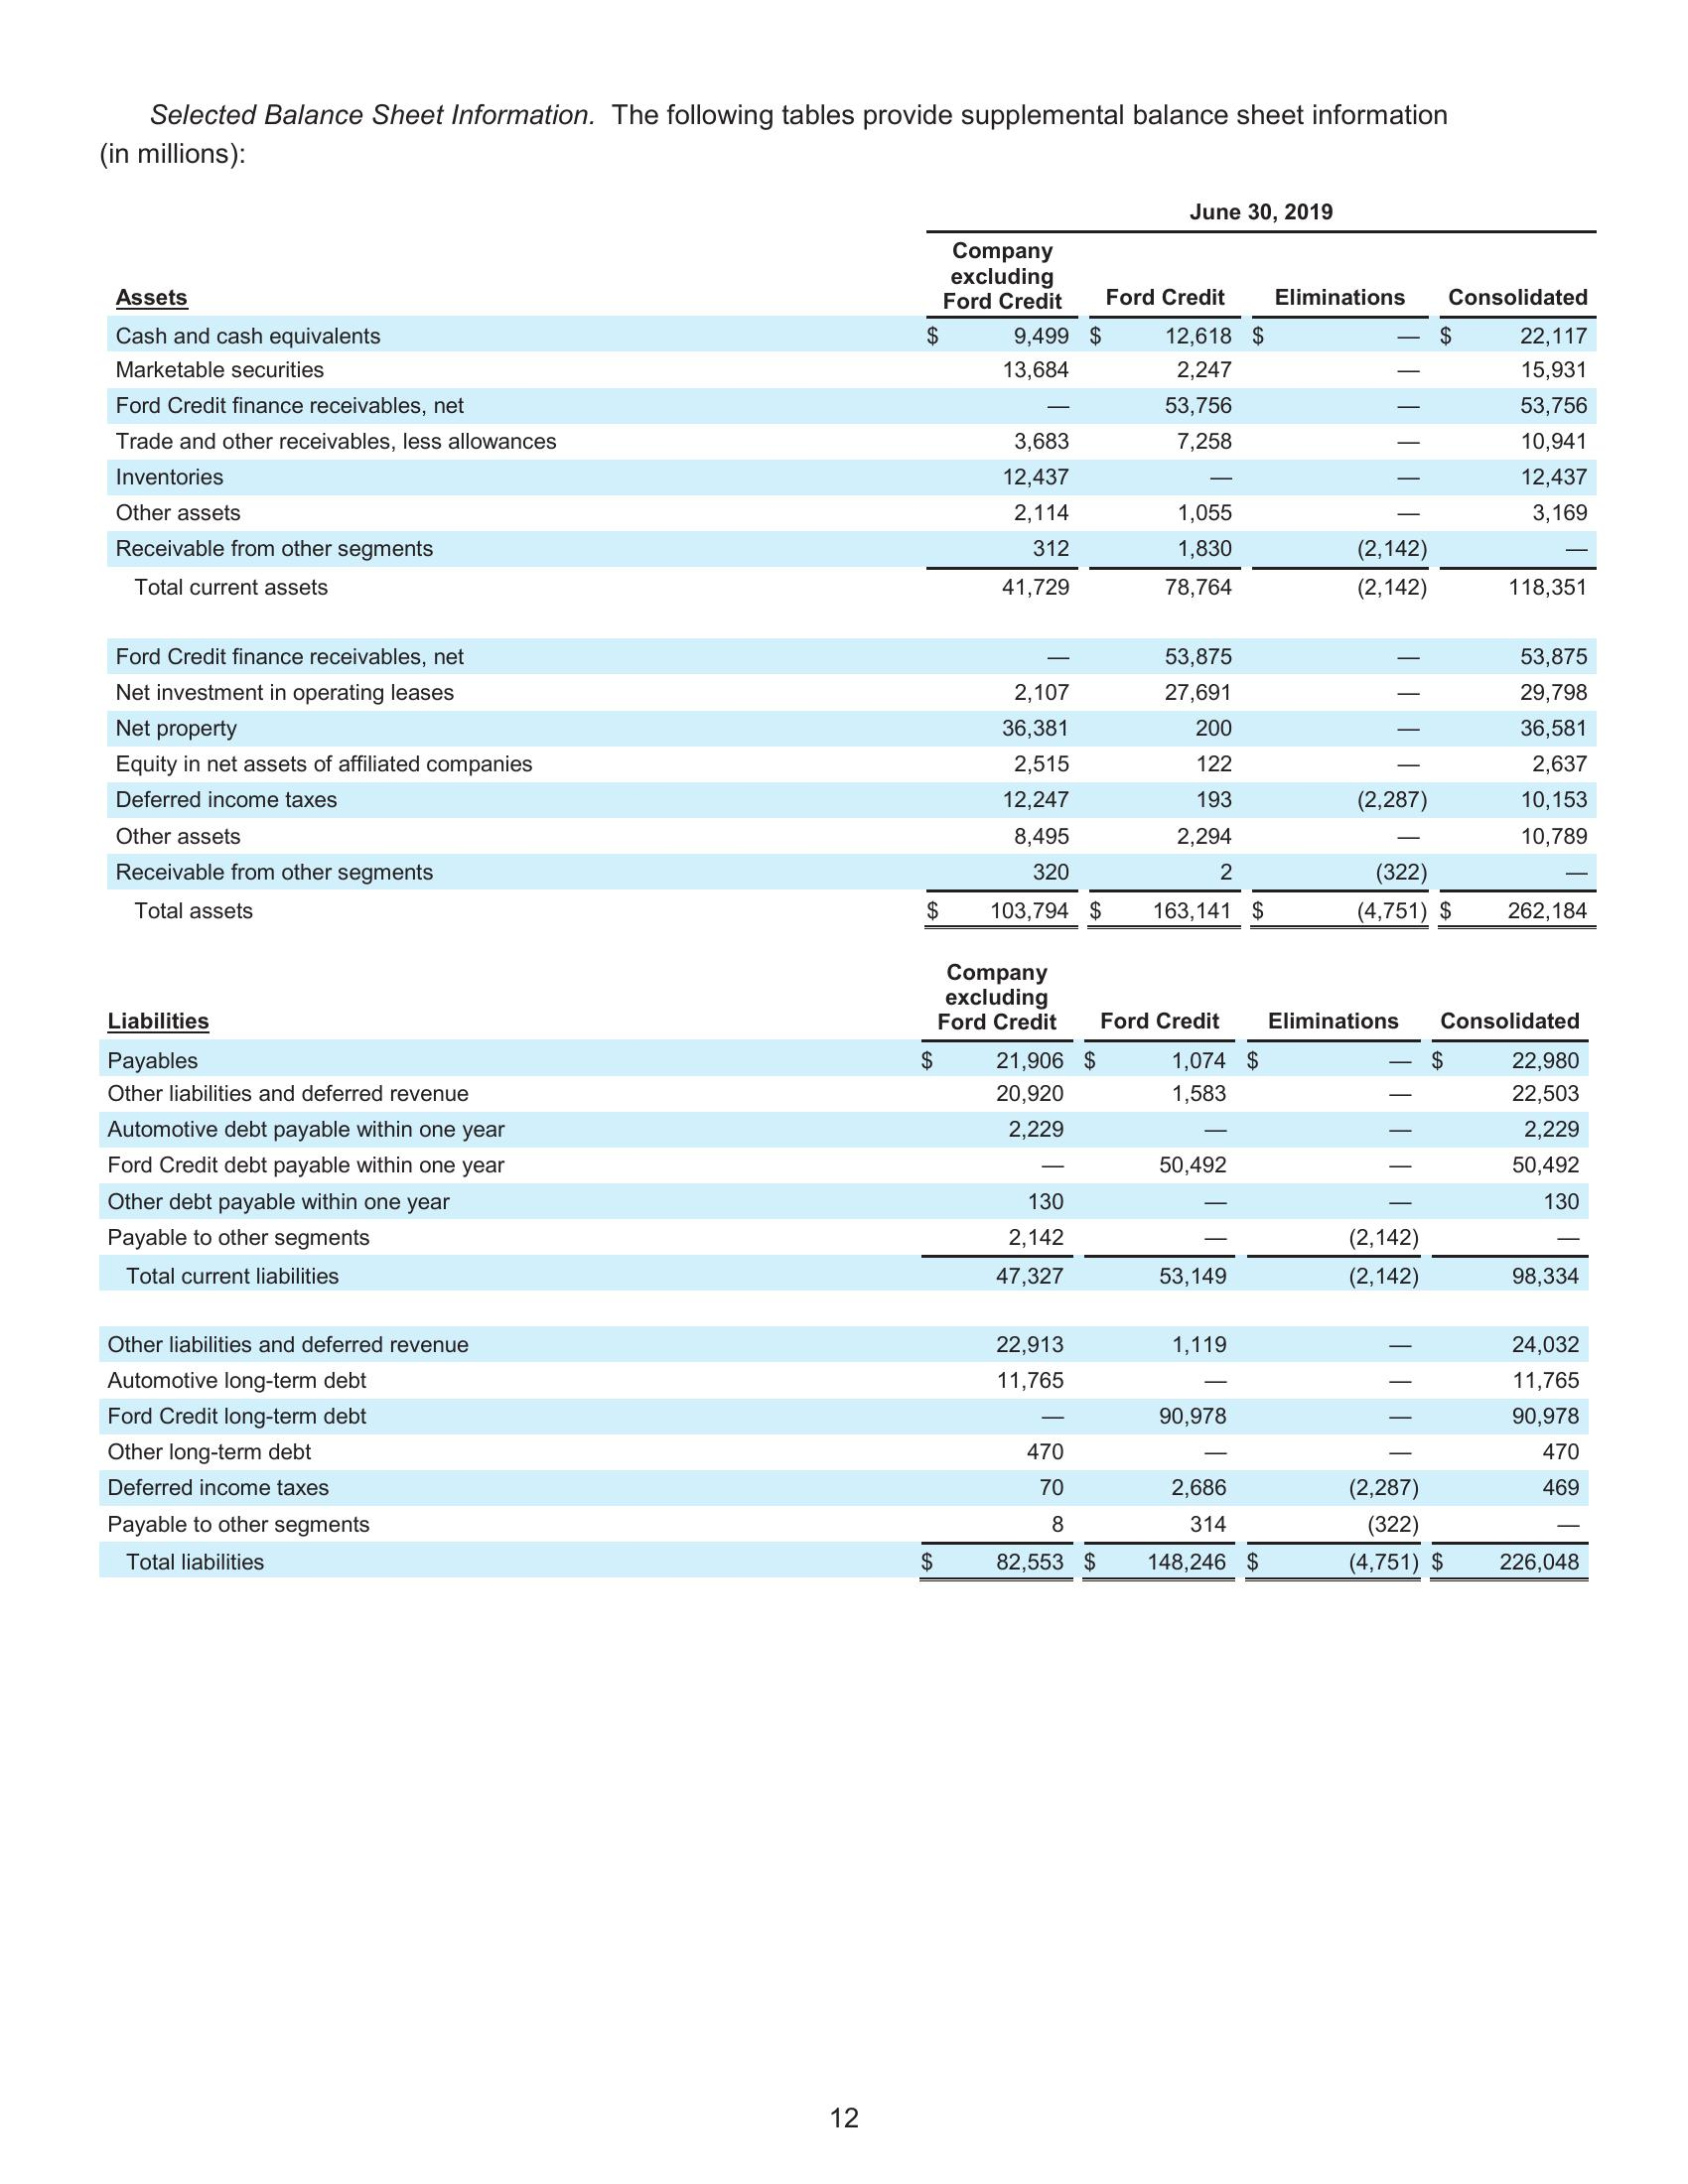table: (101, 197, 1603, 936), (98, 957, 1596, 1587)
